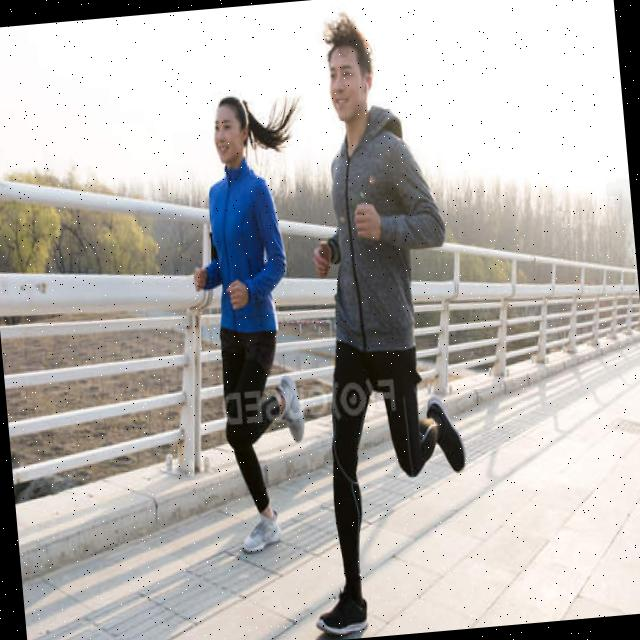Person: (264, 3, 480, 636), (176, 90, 339, 558)
